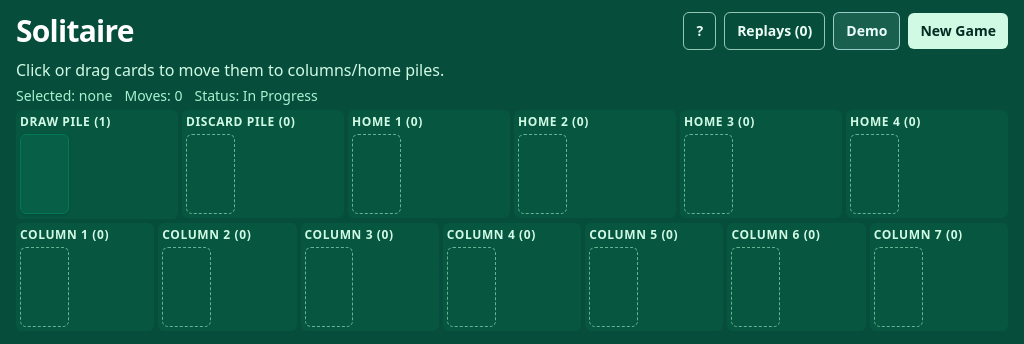
Scenario: App click-to-move interactions › draws from stock when stock pile is clicked
Click the button with test id "pile-stock" at {"x": 97, "y": 164}, box [16,110,178,219]
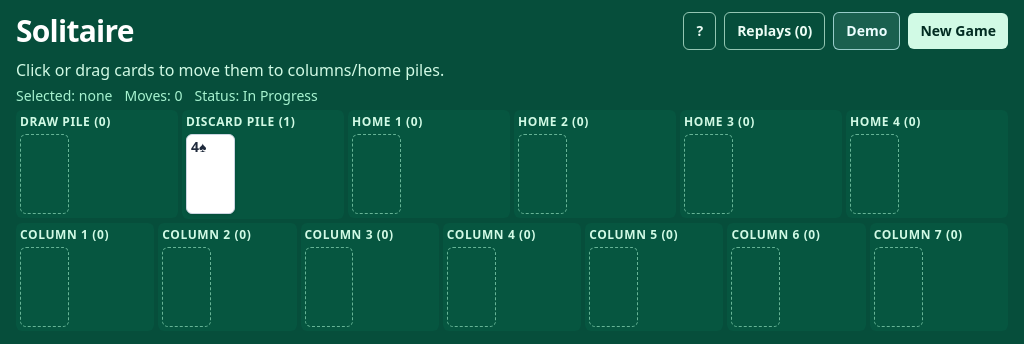
Check: the text "Draw Pile (0)" is shown, box [20,113,111,130]
Check: the text "Discard Pile (1)" is shown, box [186,113,296,130]
Check: the text "4♠" is shown, box [191,137,206,157]
